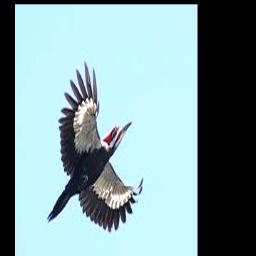Woodpecker: (47, 60, 143, 231)
